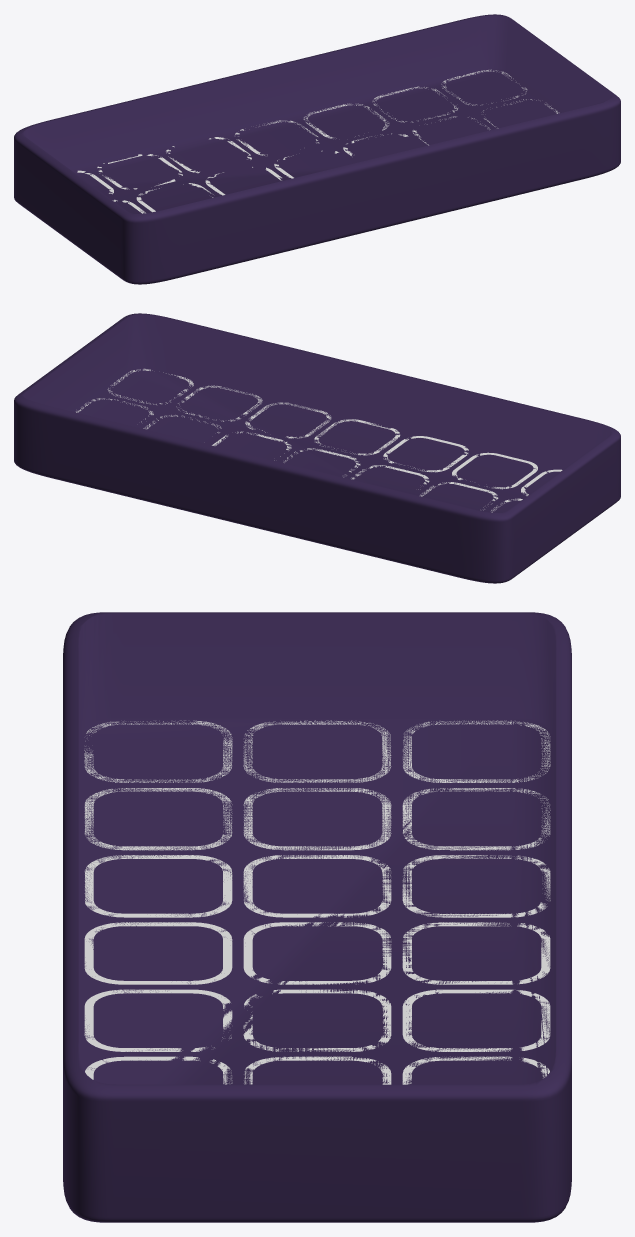
Rendered from BrightDisplayBorder.fbx.
3 views of the same model, one above another, from view 1: azimuth 30°, elevation 25°; view 2: azimuth 150°, elevation 25°; view 3: azimuth 270°, elevation 25° (orthographic). The views are drawn at different scales.
Visible parts, largest first — view 1: Border, Outline; view 2: Border, Outline; view 3: Border, Outline.
Boxes of the visible parts, x1=… form: Border: x1=14, y1=14, x2=620, y2=284; Outline: x1=77, y1=69, x2=559, y2=213; Border: x1=14, y1=313, x2=620, y2=583; Outline: x1=76, y1=368, x2=562, y2=512; Border: x1=63, y1=612, x2=571, y2=1222; Outline: x1=84, y1=720, x2=550, y2=1084.
Bounding box in the file's own units: 1440 × 198 × 640.
